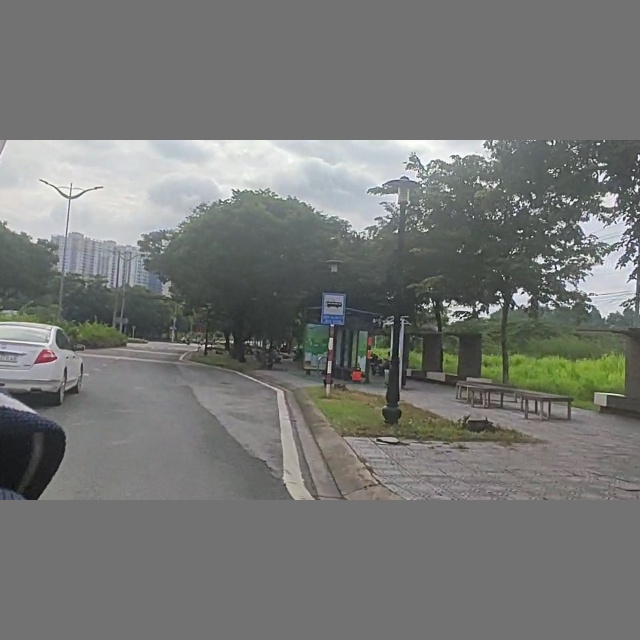I.434a: (319, 289, 349, 329)
